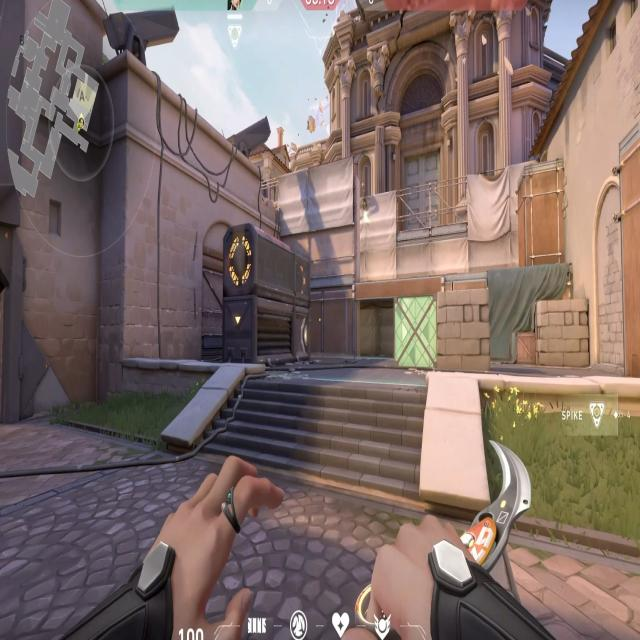A_Heaven_Box: (515, 154, 573, 268)
A_Heaven_Wall: (264, 157, 362, 293)
A_Site_Box: (393, 288, 492, 376)
